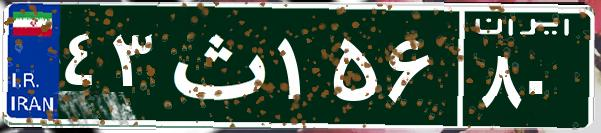0: (525, 38, 570, 115)
1: (273, 28, 330, 110)
3: (110, 28, 158, 105)
4: (57, 26, 110, 107)
5: (330, 28, 385, 110)
6: (385, 28, 445, 110)
8: (475, 38, 525, 113)
ث: (158, 15, 273, 115)
